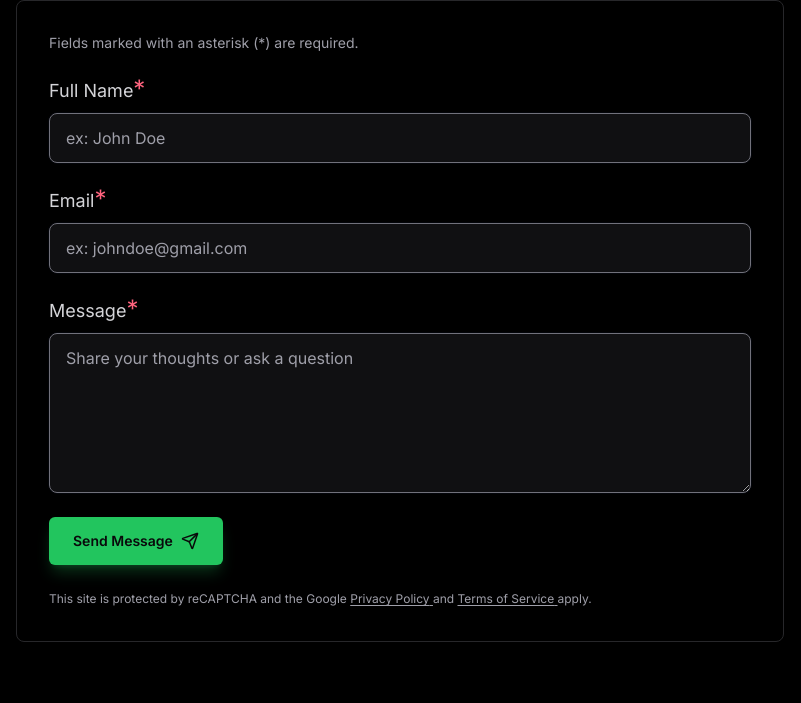
Scenario: ContactForm › renders a form-level captcha error
In the field labelled "Full Name *": (400, 138) [49,113,751,163], type "Jane Doe"
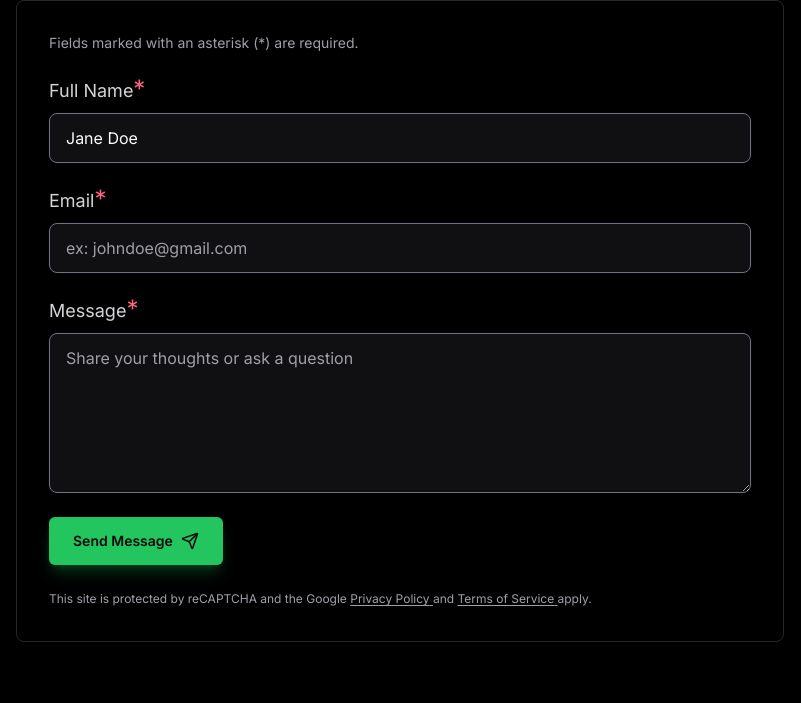
In the field labelled "Email *": (400, 248) [49,223,751,273], type "jane@example.com"
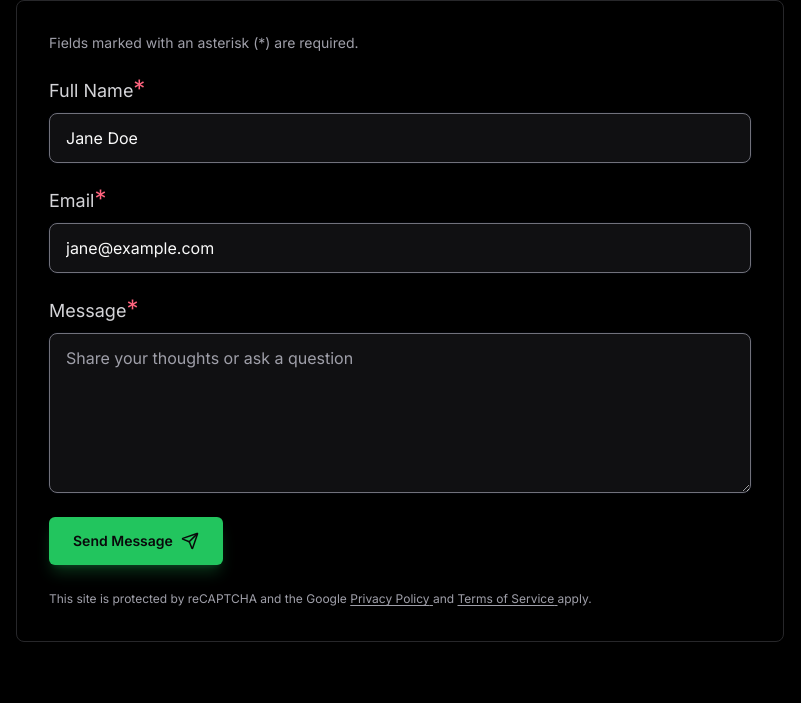
In the text box labelled "Message *": (400, 413) [49,333,751,493], type "Hello there, this is a message."
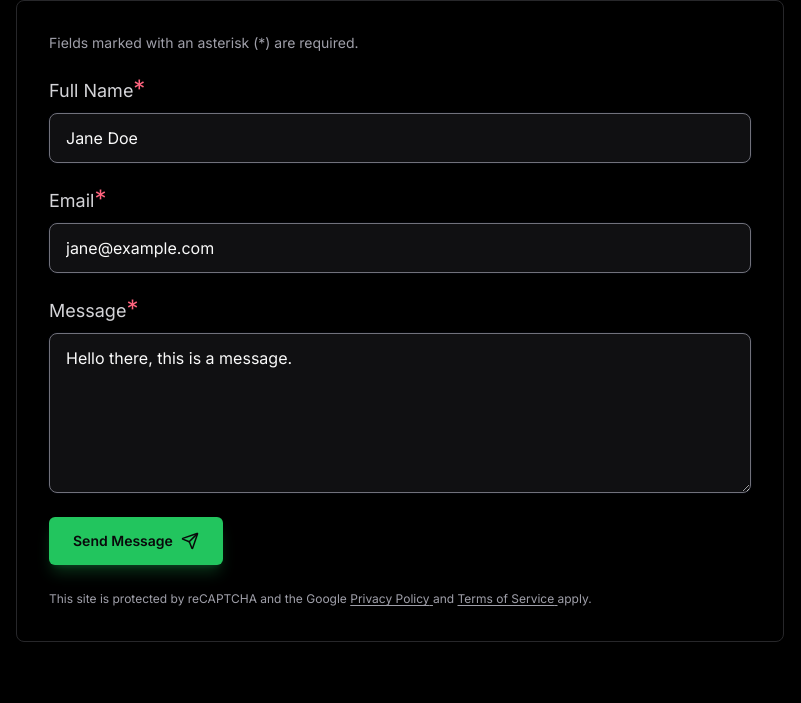
Submit the form
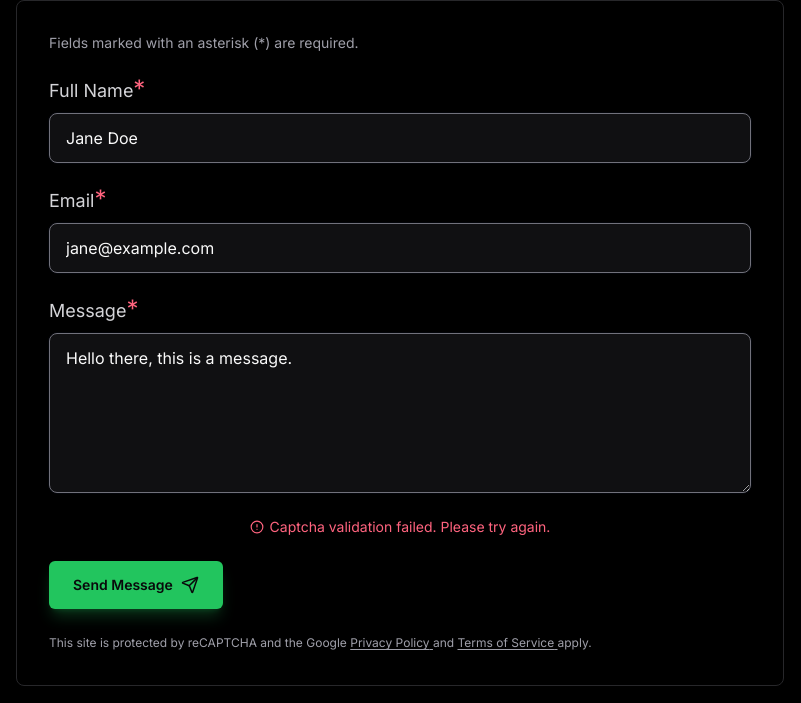
Now the text "Captcha validation failed. Please try again." is shown, box [270,517,550,537]
